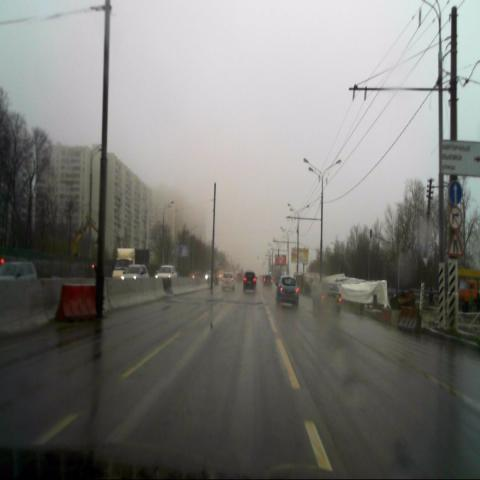1_20_2: (448, 232, 462, 257)
3_18: (448, 207, 462, 229)
